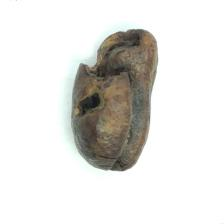NG: (72, 28, 158, 172)
